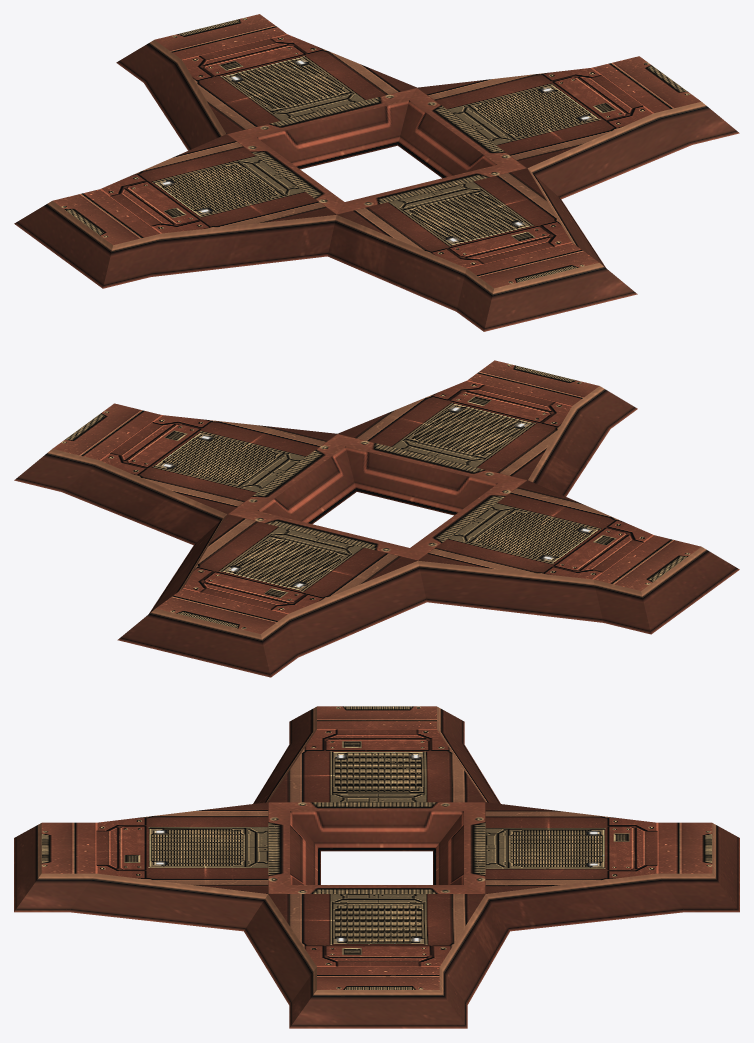
Rendered from MP_raf_FLAG_podprdelnik.FBX.
The picture shows the model from 3 angles, top to bottom: view 1: azimuth 30°, elevation 25°; view 2: azimuth 150°, elevation 25°; view 3: azimuth 270°, elevation 25°; orthographic projection.
Visible parts, largest first — view 1: patka001; view 2: patka001; view 3: patka001.
Boxes of the visible parts, left/top/right/bottom form: patka001: left=14, top=14, right=739, bottom=331; patka001: left=14, top=360, right=739, bottom=677; patka001: left=14, top=706, right=739, bottom=1028.
Size of the model in its own units: 277 by 11.36 by 277.
1 material, 1 textured.
